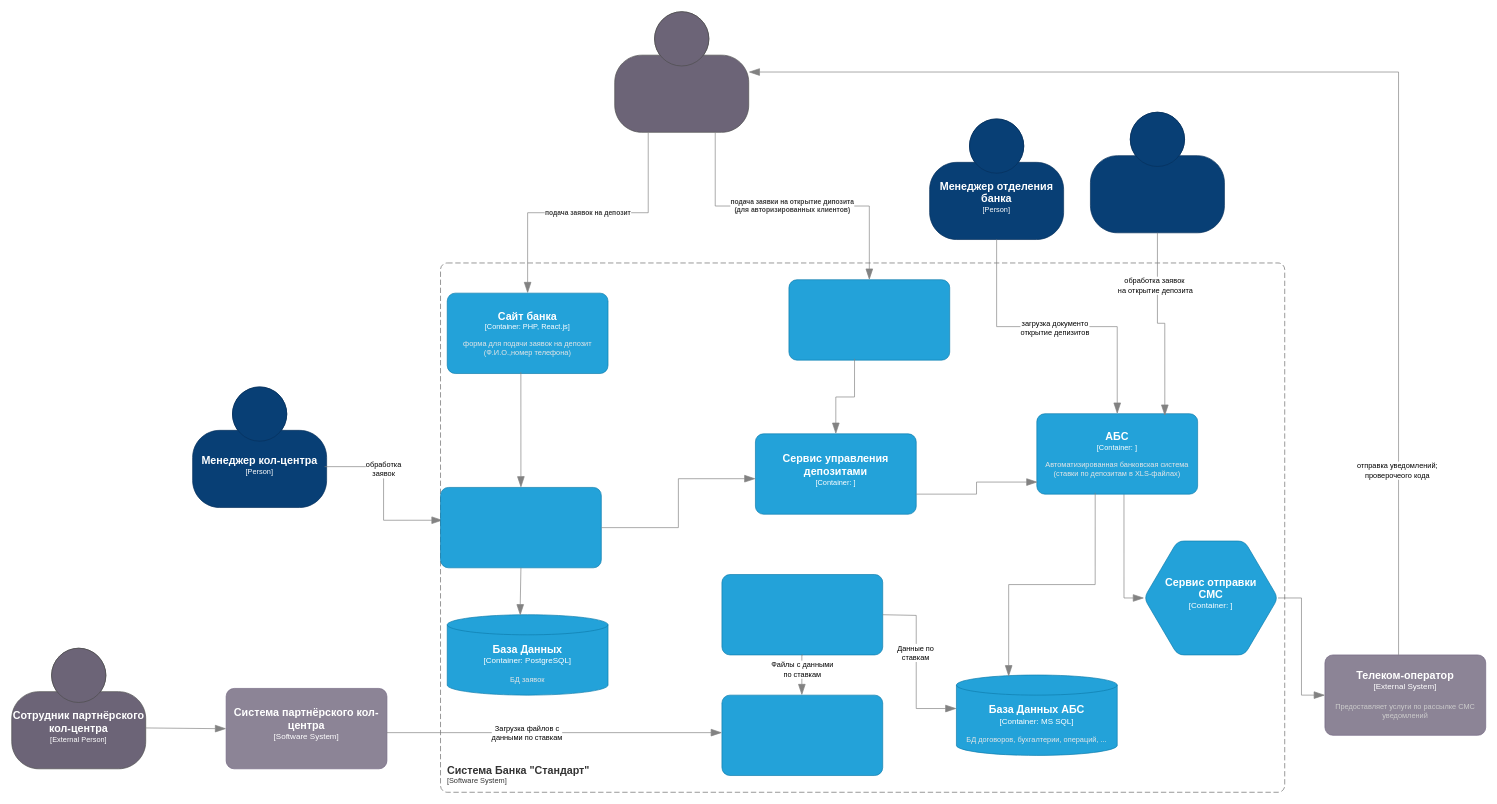
The diagram is 1497 pixels wide and 804 high, and some of its shapes have lost their labels. Here are the shapes that lost their labels. From the top down, the box of each, then its label:
(614, 11, 749, 132): Клиент банка [Person]
(1090, 112, 1224, 233): Менеджер бэк-офиса [Person]
(788, 279, 950, 360): Интернет-банк [Container: ASP.NET MVC 4.5, .NET Framework 4.5]
(440, 487, 601, 568): Система кол-центра [Container: React.js, Java Spring Boot]
(721, 574, 883, 655): Интеграционный сервис [Container: ]
(721, 694, 883, 776): SFTP сервер [Container: ]
